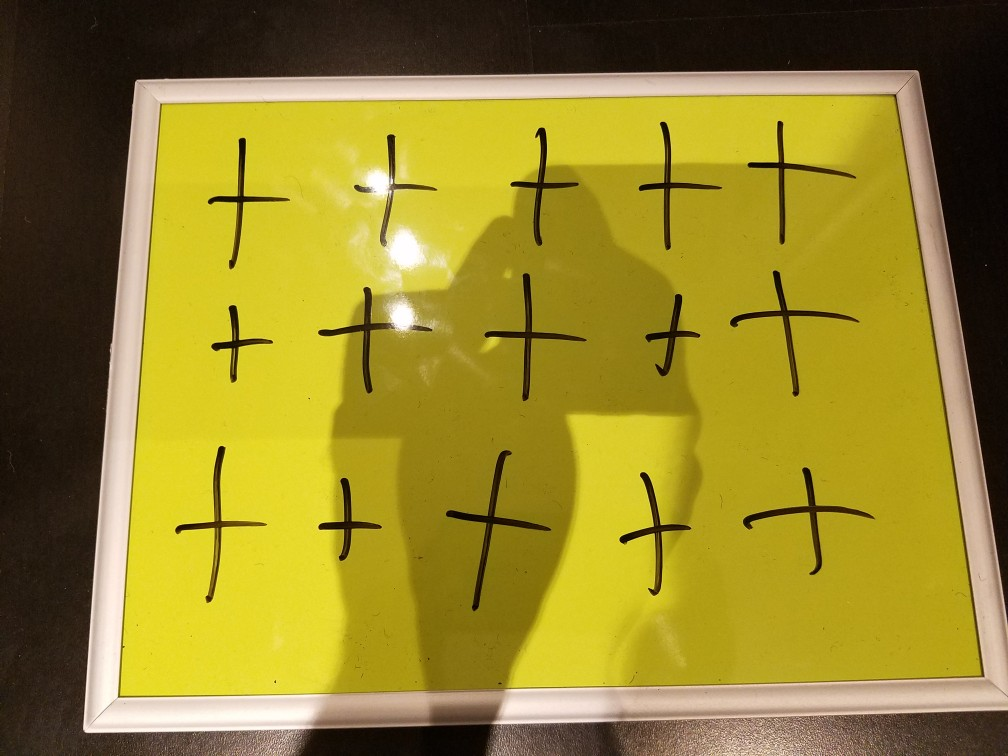+: (718, 446, 900, 599), (433, 432, 570, 623), (717, 268, 883, 411), (734, 97, 869, 256), (605, 87, 727, 259), (465, 260, 598, 412), (171, 426, 273, 622), (197, 122, 303, 292), (307, 274, 441, 405), (334, 126, 452, 258), (603, 458, 701, 611), (487, 105, 585, 254), (630, 281, 709, 391), (195, 294, 280, 395), (306, 474, 385, 569)
